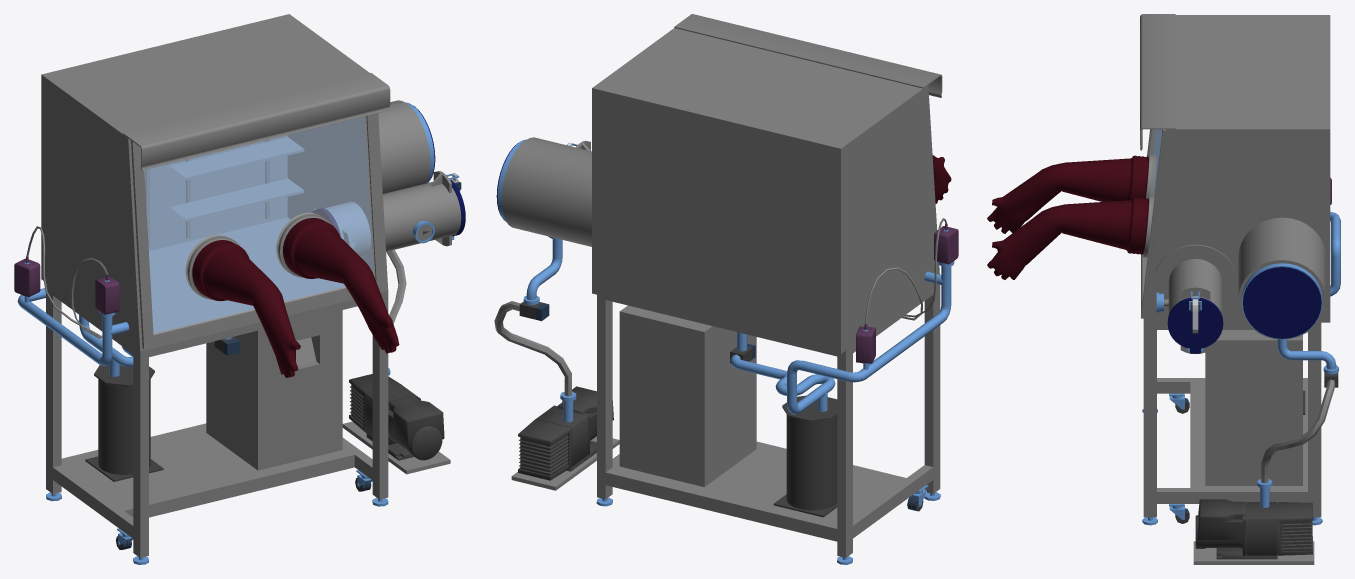
Rendered from m_braun_labster_v4.fbx.
3 views of the same model, side by side, from view 1: azimuth 30°, elevation 25°; view 2: azimuth 150°, elevation 25°; view 3: azimuth 270°, elevation 25° (orthographic). The views are drawn at different scales.
Parts seen in each view (by area): view 1: vavq_chamber, vacq_window, vacq_gloves; view 2: vavq_chamber, vacq_gloves; view 3: vavq_chamber, vacq_gloves, vacq_hatch_01, vacq_window.
Part boxes in pixels (x1,y1,x2,y2): vavq_chamber: [14, 14, 461, 564]; vacq_window: [144, 116, 375, 334]; vacq_gloves: [185, 212, 399, 377]; vavq_chamber: [494, 14, 958, 564]; vacq_gloves: [932, 155, 951, 203]; vavq_chamber: [1140, 14, 1340, 564]; vacq_gloves: [987, 154, 1156, 279]; vacq_hatch_01: [1167, 297, 1223, 353]; vacq_window: [1144, 129, 1161, 286].
Size of the model in its own units: 202 by 206 by 167.
